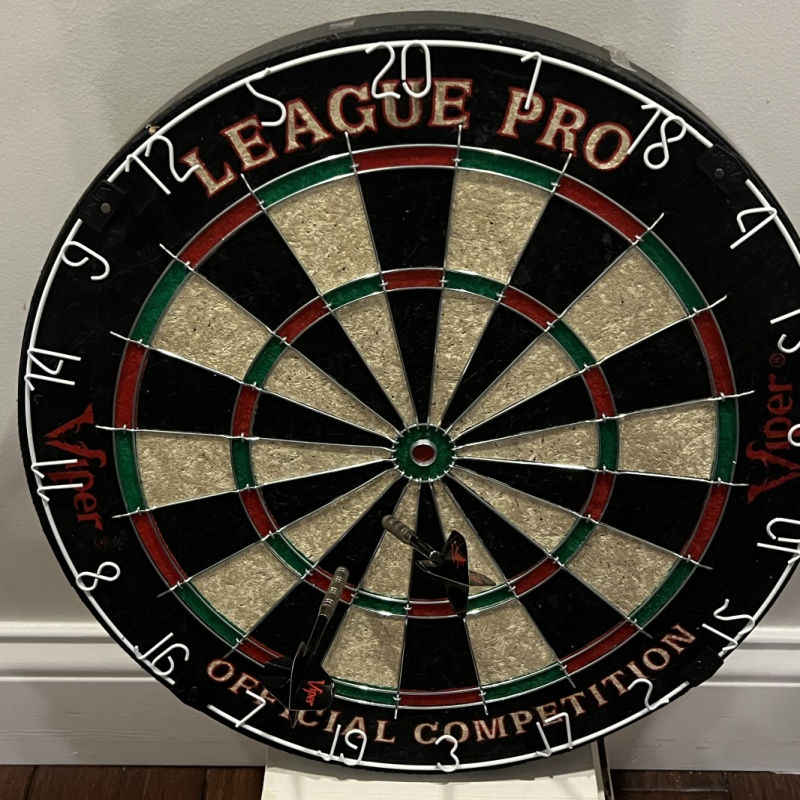dart: (328, 561, 355, 587), (380, 510, 398, 534)
eleven: (29, 455, 88, 502)
three: (432, 734, 460, 772)
twenty: (366, 39, 432, 101)
